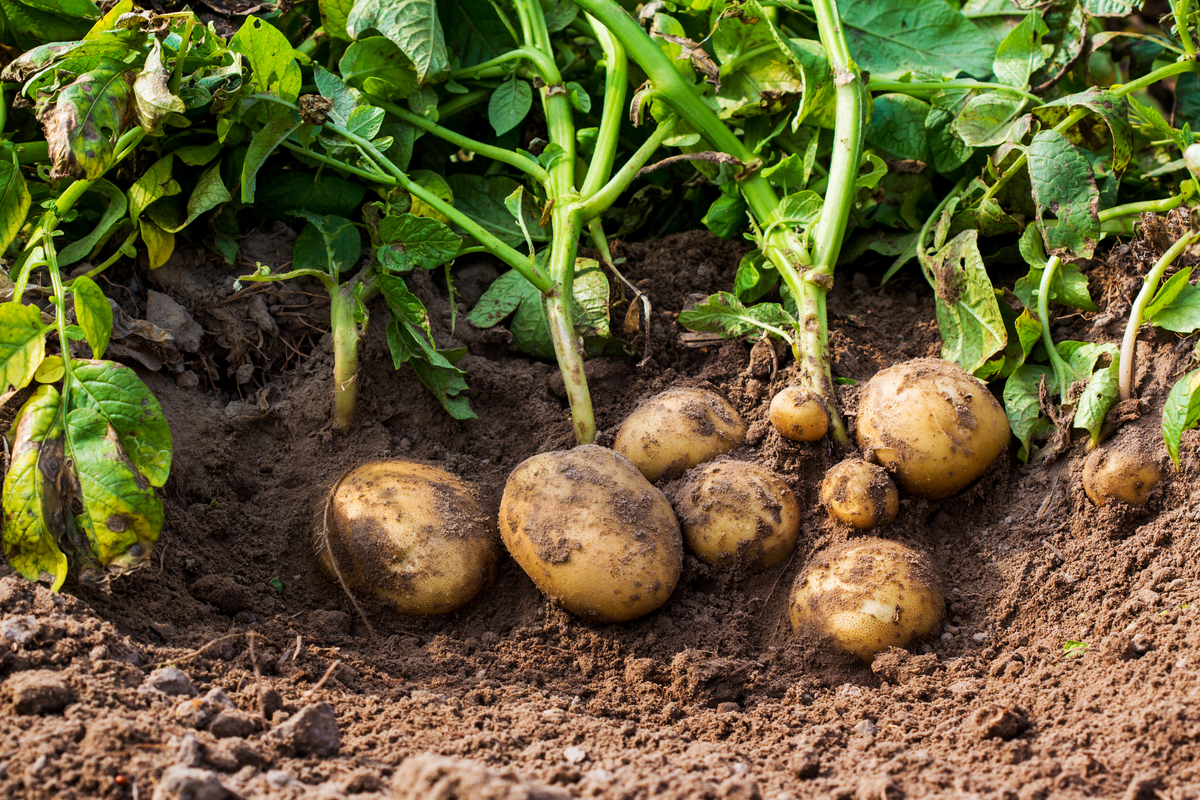potato: (297, 448, 509, 620)
